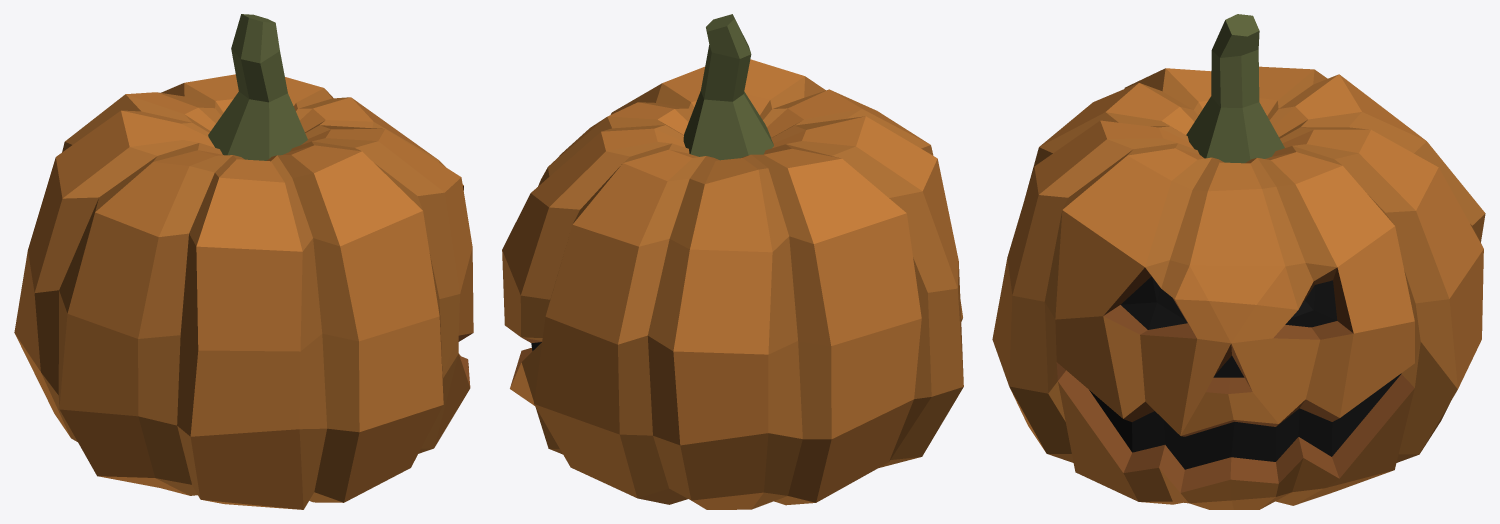
Rendered from SM_Prop_Pumpkin_Lanturn_02.fbx.
3 views of the same model, side by side, from view 1: azimuth 30°, elevation 25°; view 2: azimuth 150°, elevation 25°; view 3: azimuth 270°, elevation 25° (orthographic).
Visible parts, largest first — view 1: SM_Prop_Pumpkin_Lanturn_02; view 2: SM_Prop_Pumpkin_Lanturn_02; view 3: SM_Prop_Pumpkin_Lanturn_02.
Part boxes in pixels (<box>): SM_Prop_Pumpkin_Lanturn_02: <box>14,14,473,509</box>; SM_Prop_Pumpkin_Lanturn_02: <box>502,14,963,509</box>; SM_Prop_Pumpkin_Lanturn_02: <box>992,14,1485,509</box>.
Size of the model in its own units: 50.39 by 51.63 by 51.63.
